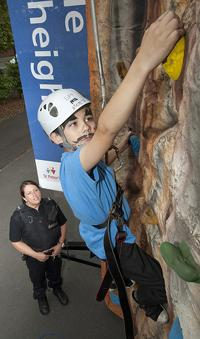person: (38, 9, 187, 326)
